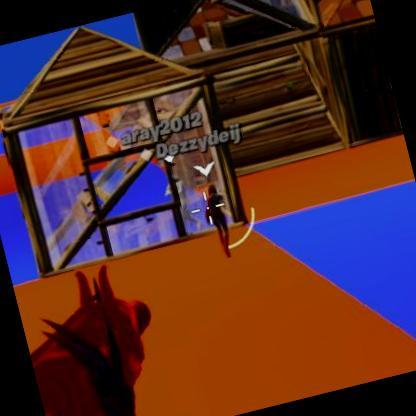person: (197, 188, 240, 256)
